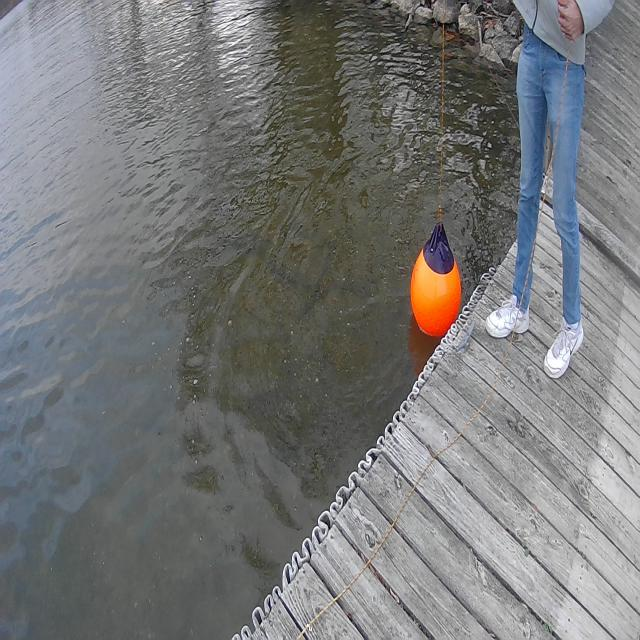Buoy: (408, 218, 469, 360)
